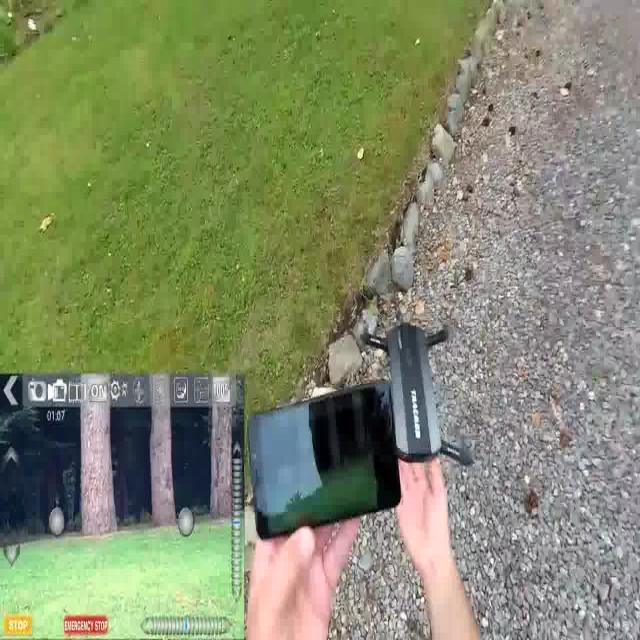drones: (352, 307, 484, 478)
